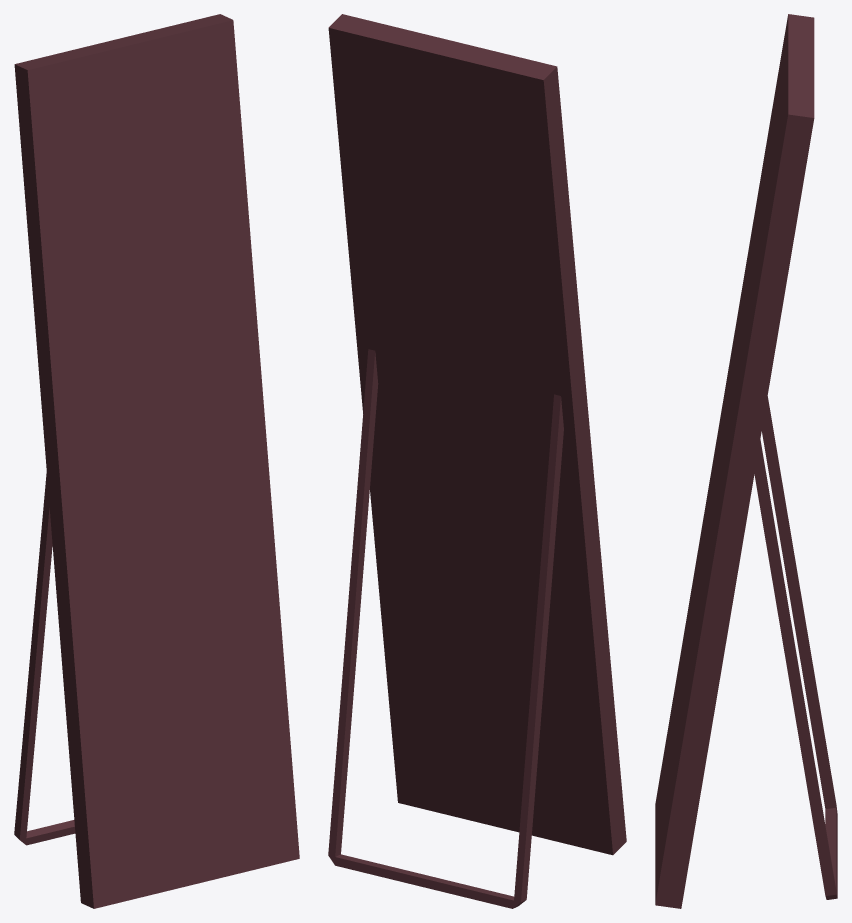
File: mirror-tall.fbx
The picture shows the model from 3 angles, left to right: view 1: azimuth 30°, elevation 25°; view 2: azimuth 150°, elevation 25°; view 3: azimuth 270°, elevation 25°; orthographic projection. The views are drawn at different scales.
Parts seen in each view (by area): view 1: mirror-tall; view 2: mirror-tall; view 3: mirror-tall.
Boxes of the visible parts, box(x1,y1,x2,y2) form: mirror-tall: box(14, 14, 299, 908); mirror-tall: box(328, 14, 626, 908); mirror-tall: box(655, 14, 837, 908).
Bounding box in the file's own units: 0.45 × 1.66 × 0.3454.
